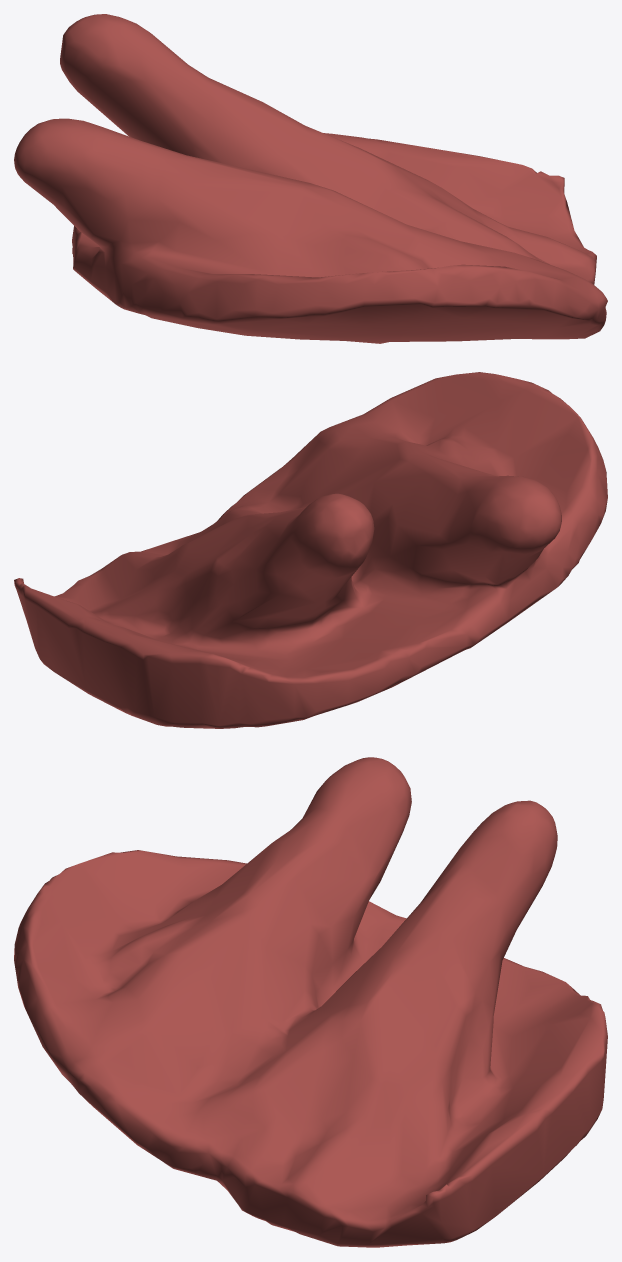
The model's file is FMA7261.glb.
3 renders of one model, top to bottom at view 1: azimuth 30°, elevation 25°; view 2: azimuth 150°, elevation 25°; view 3: azimuth 270°, elevation 25°, orthographic. The views are drawn at different scales.
Visible parts, largest first — view 1: FMA7261; view 2: FMA7261; view 3: FMA7261.
Part boxes in pixels (x1,y1,x2,y2): FMA7261: (14, 14, 607, 343); FMA7261: (14, 372, 607, 728); FMA7261: (14, 757, 607, 1247).
Bounding box in the file's own units: 0.0296 × 0.0145 × 0.0287.
